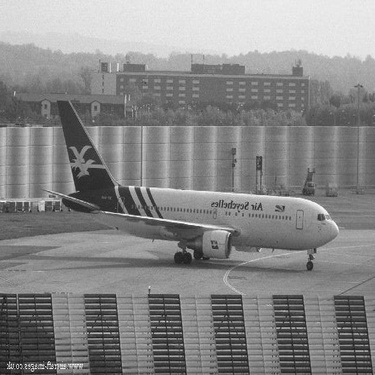airplane: (54, 91, 339, 281)
